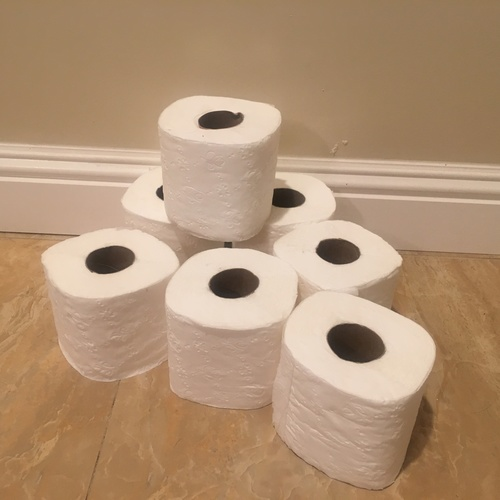roll: (270, 291, 438, 491), (39, 227, 180, 383), (164, 246, 298, 410), (156, 94, 282, 243), (271, 219, 403, 312), (119, 165, 225, 270), (231, 170, 337, 257)
